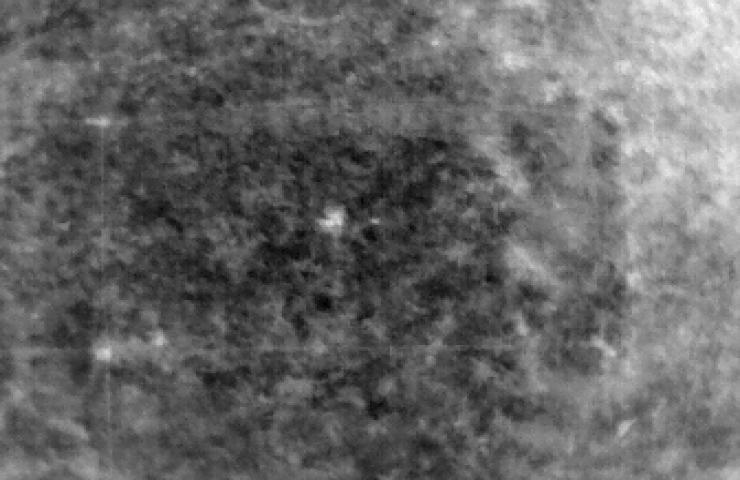landmines: (318, 207, 348, 233)
